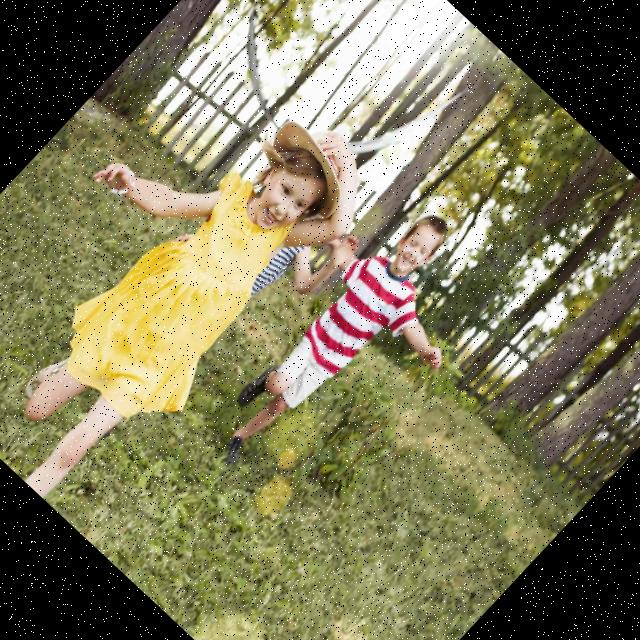Person: (0, 30, 395, 528), (163, 167, 516, 528)
